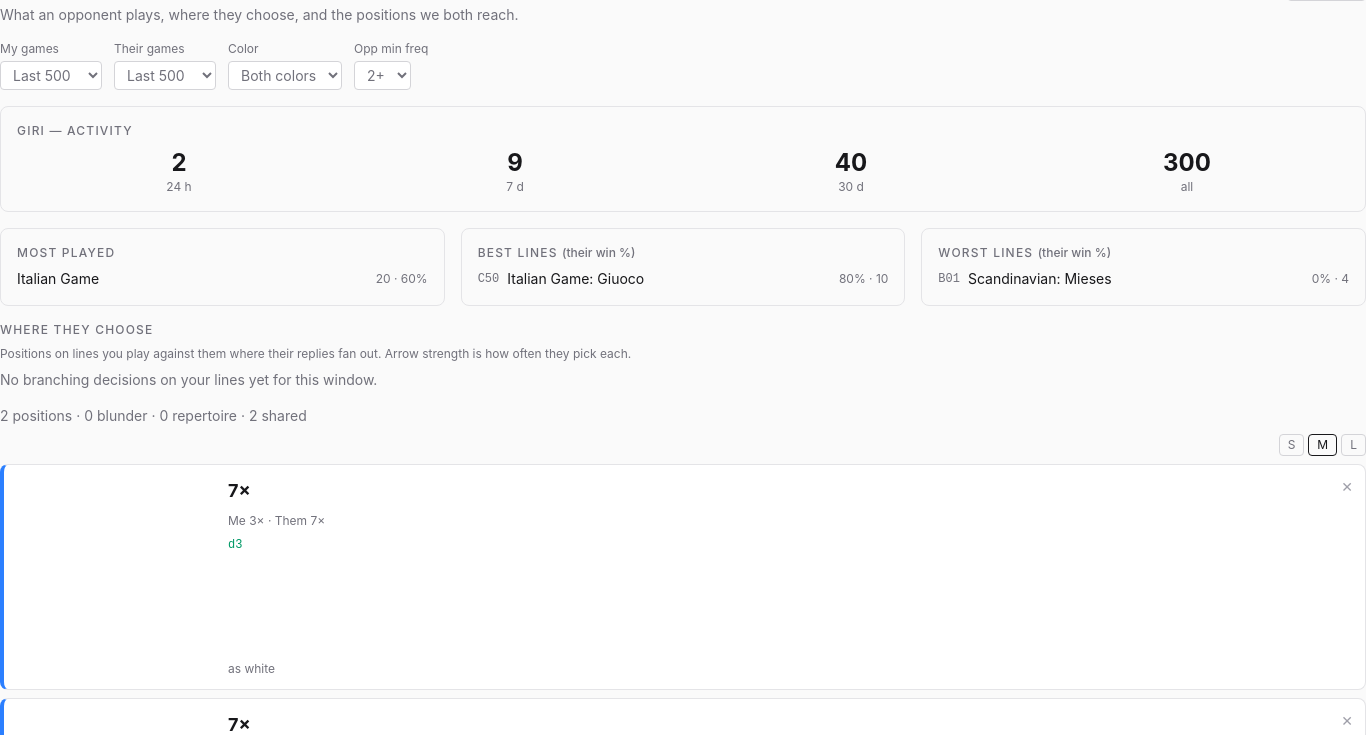
Scenario: Scout page › dismisses a board from the list and restores it from the Dismissed panel
expect the element labelled "activity" is shown: met, box left=0, top=106, right=1365, bottom=212
Click the button named "Dismiss" at (1347, 721), box left=1341, top=711, right=1353, bottom=731
(page scrolled)
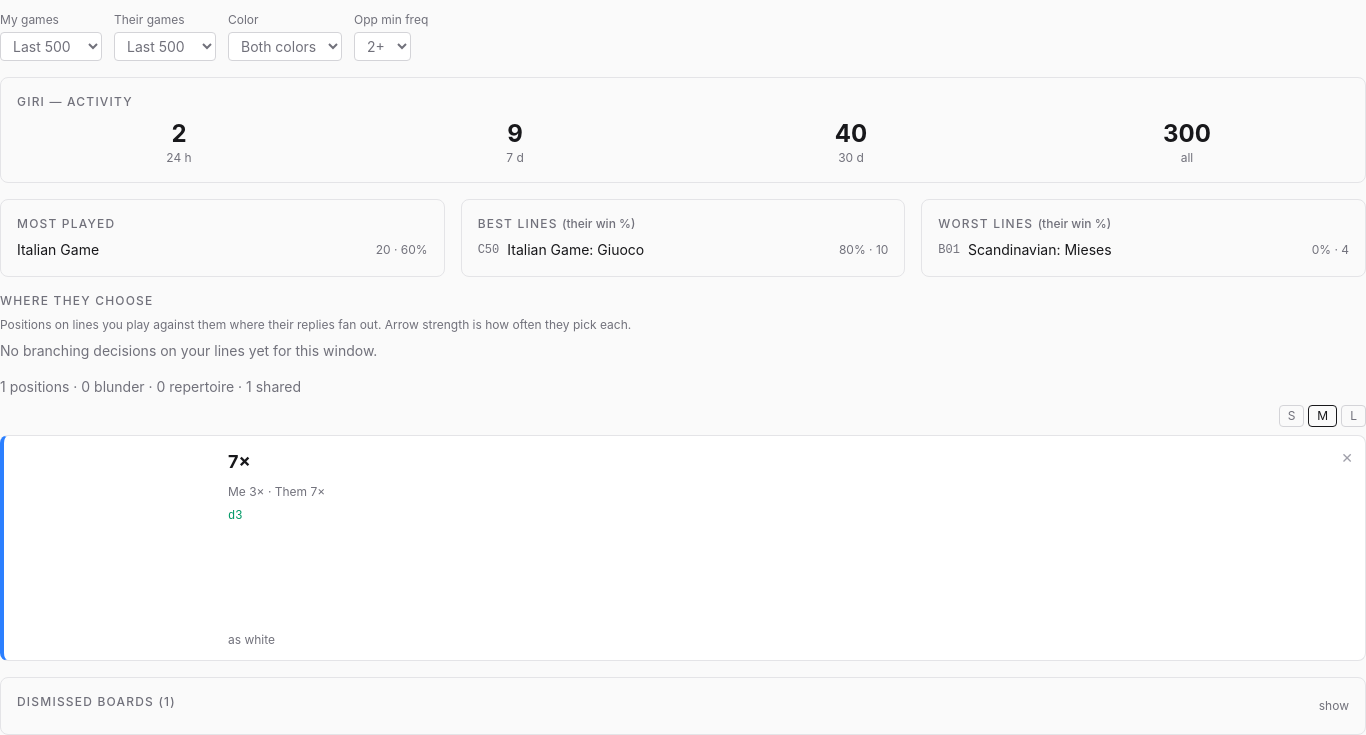
expect the number of elements with test id "position-card" is 1: met, box left=0, top=435, right=1365, bottom=661
expect the element with test id "dismissed-panel" shows "Dismissed boards (1)": met, box left=0, top=677, right=1365, bottom=734
Click the button "Dismissed boards (1) show" at (91, 702), box left=17, top=694, right=1349, bottom=718
(page scrolled)
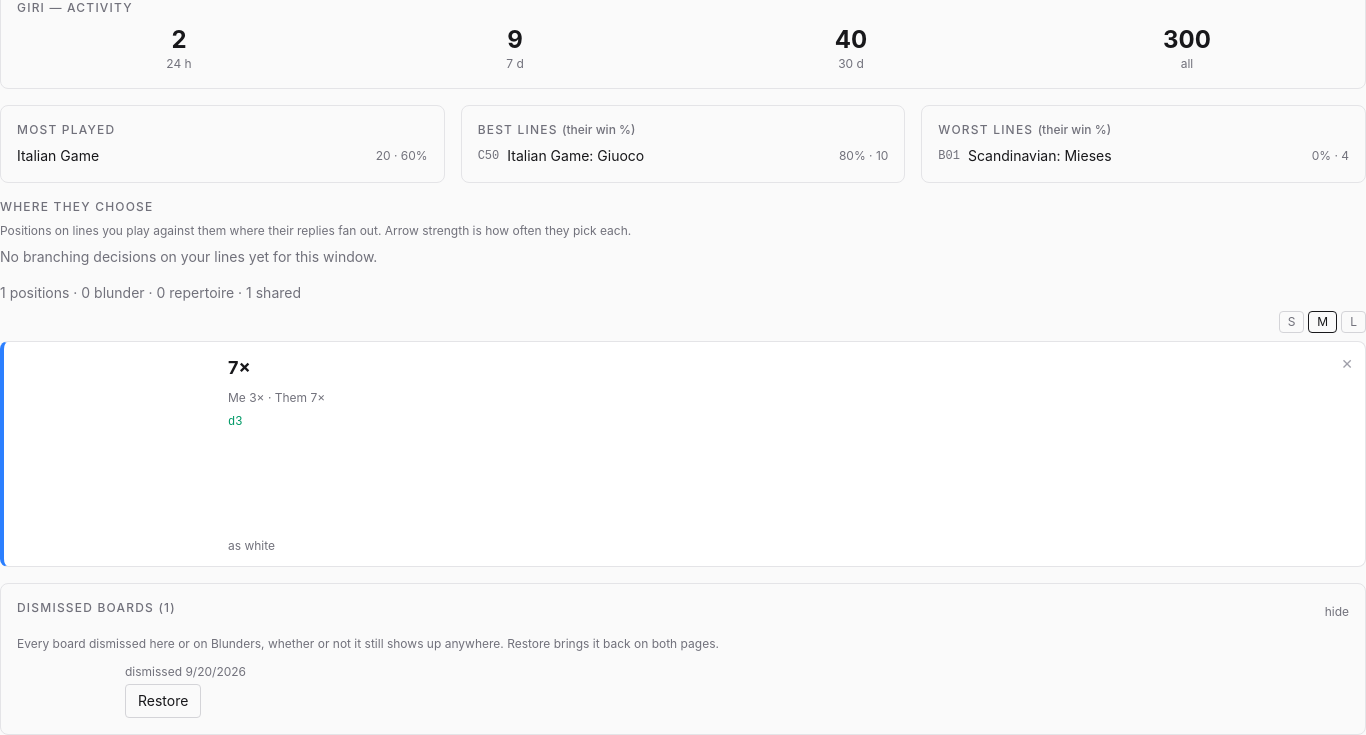
Click the button "Restore" at (163, 701), box left=125, top=684, right=201, bottom=718
(page scrolled)
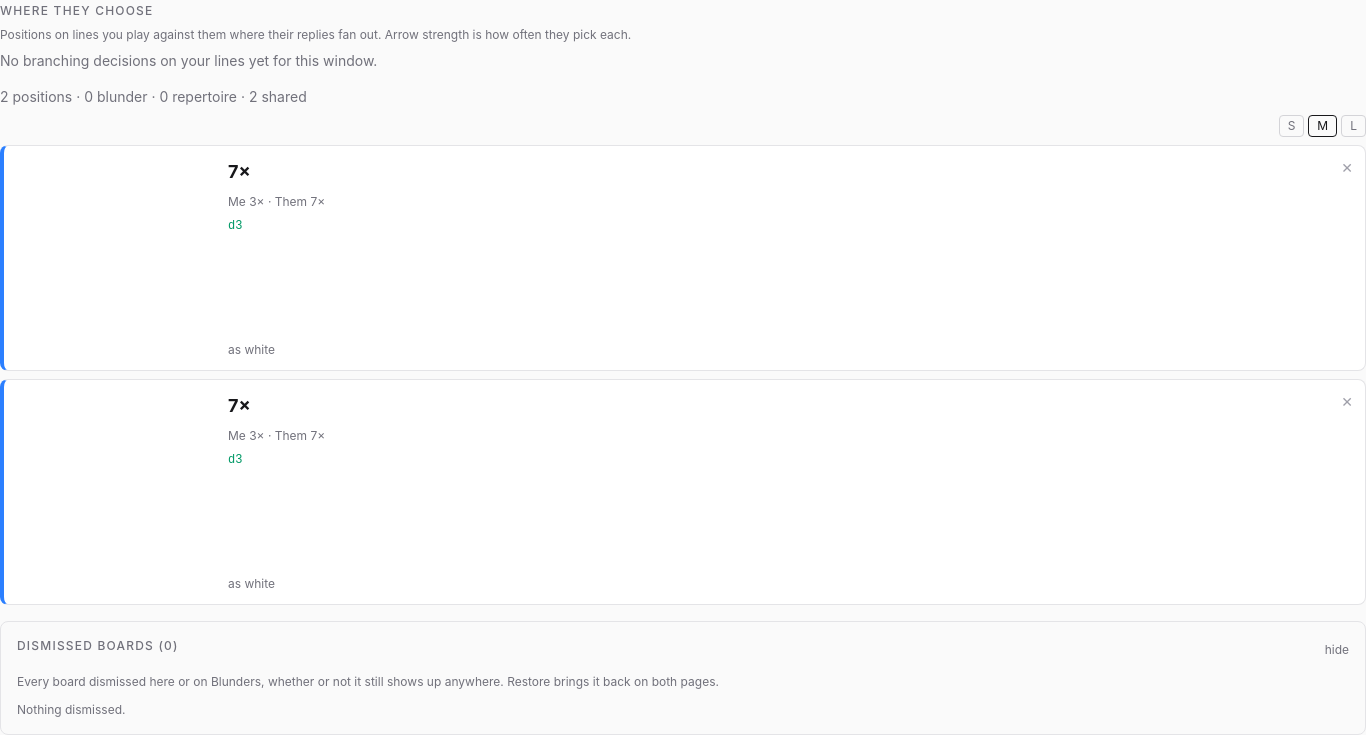
expect the number of elements with test id "position-card" is 2: met, box left=0, top=145, right=1365, bottom=371; left=0, top=379, right=1365, bottom=605
expect the element with test id "dismissed-panel" shows "Dismissed boards (0)": met, box left=0, top=621, right=1365, bottom=734
